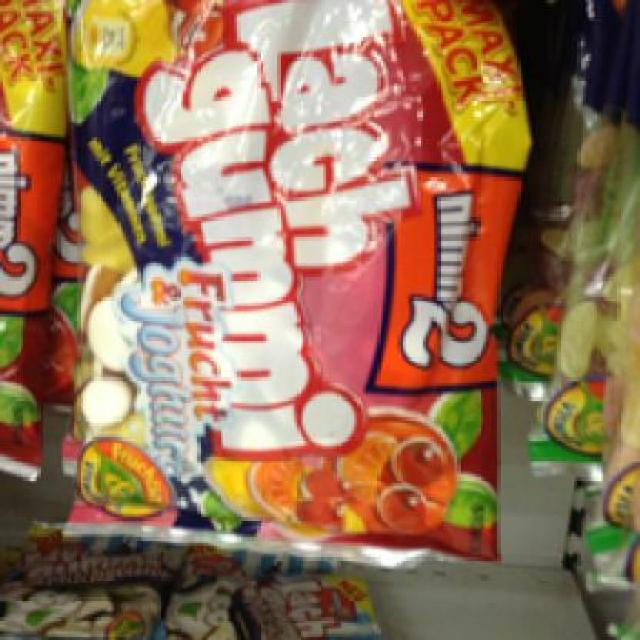Candy: (63, 9, 526, 560), (546, 47, 634, 604)
